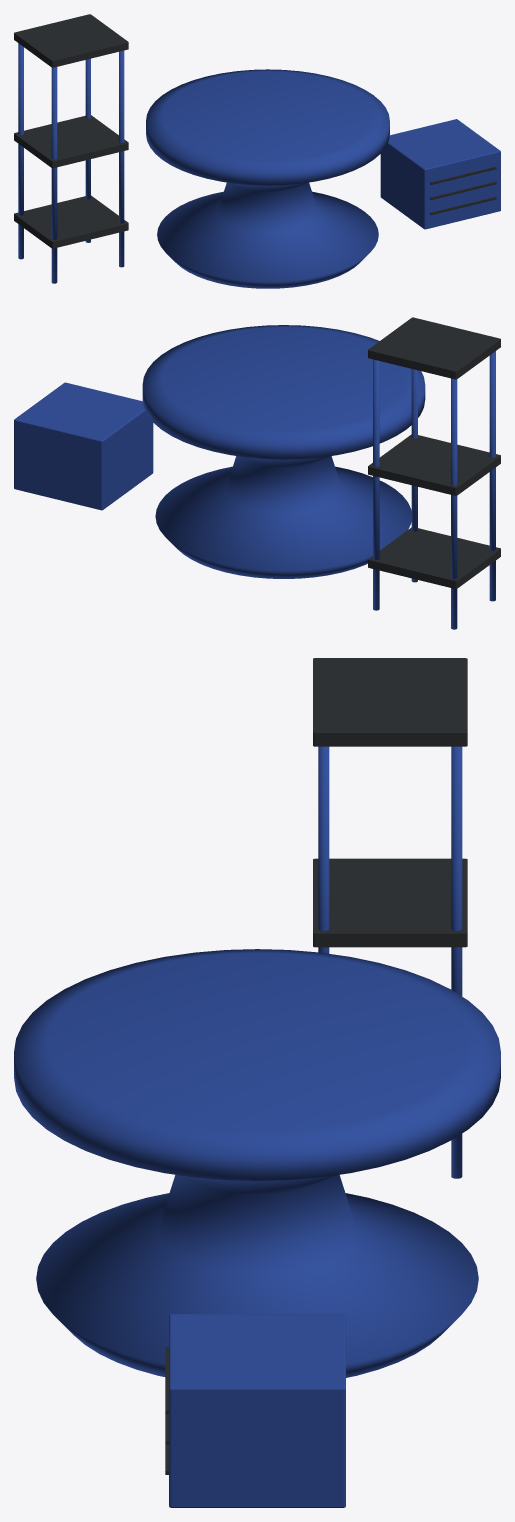
3 renders of one model, top to bottom at view 1: azimuth 30°, elevation 25°; view 2: azimuth 150°, elevation 25°; view 3: azimuth 270°, elevation 25°, orthographic. The views are drawn at different scales.
Visible parts, largest first — view 1: TI039 / exotic alloy table, TI039 / separate storage block, TI039 / shelf plane.002, TI039 / shelf plane, TI039 / shelf plane.001, TI039 / slender shelf leg, TI039 / slender shelf leg.002, TI039 / slender shelf leg.001, TI039 / slender shelf leg.003; view 2: TI039 / exotic alloy table, TI039 / separate storage block, TI039 / shelf plane.002, TI039 / shelf plane.001, TI039 / shelf plane, TI039 / slender shelf leg.001, TI039 / slender shelf leg.003, TI039 / slender shelf leg, TI039 / slender shelf leg.002; view 3: TI039 / exotic alloy table, TI039 / separate storage block, TI039 / shelf plane.002, TI039 / shelf plane.001, TI039 / slender shelf leg.003, TI039 / slender shelf leg.002.
Part boxes in pixels (x1,y1,x2,y2): TI039 / exotic alloy table: [146, 69, 389, 288]; TI039 / separate storage block: [380, 119, 500, 229]; TI039 / shelf plane.002: [14, 14, 128, 67]; TI039 / shelf plane: [14, 195, 128, 248]; TI039 / shelf plane.001: [14, 115, 128, 168]; TI039 / slender shelf leg: [51, 67, 57, 283]; TI039 / slender shelf leg.002: [119, 50, 124, 267]; TI039 / slender shelf leg.001: [18, 43, 23, 259]; TI039 / slender shelf leg.003: [85, 58, 90, 242]; TI039 / exotic alloy table: [142, 325, 425, 578]; TI039 / separate storage block: [14, 382, 153, 510]; TI039 / shelf plane.002: [368, 317, 500, 379]; TI039 / shelf plane.001: [368, 434, 500, 495]; TI039 / shelf plane: [368, 527, 500, 588]; TI039 / slender shelf leg.001: [451, 378, 457, 629]; TI039 / slender shelf leg.003: [373, 359, 379, 610]; TI039 / slender shelf leg: [489, 351, 495, 601]; TI039 / slender shelf leg.002: [411, 369, 417, 582]; TI039 / exotic alloy table: [14, 949, 500, 1377]; TI039 / separate storage block: [169, 1314, 345, 1507]; TI039 / shelf plane.002: [313, 658, 467, 746]; TI039 / shelf plane.001: [313, 858, 467, 947]; TI039 / slender shelf leg.003: [451, 746, 462, 1178]; TI039 / slender shelf leg.002: [318, 746, 329, 953].
Size of the model in its own units: 4.3 by 2.24 by 2.2.
